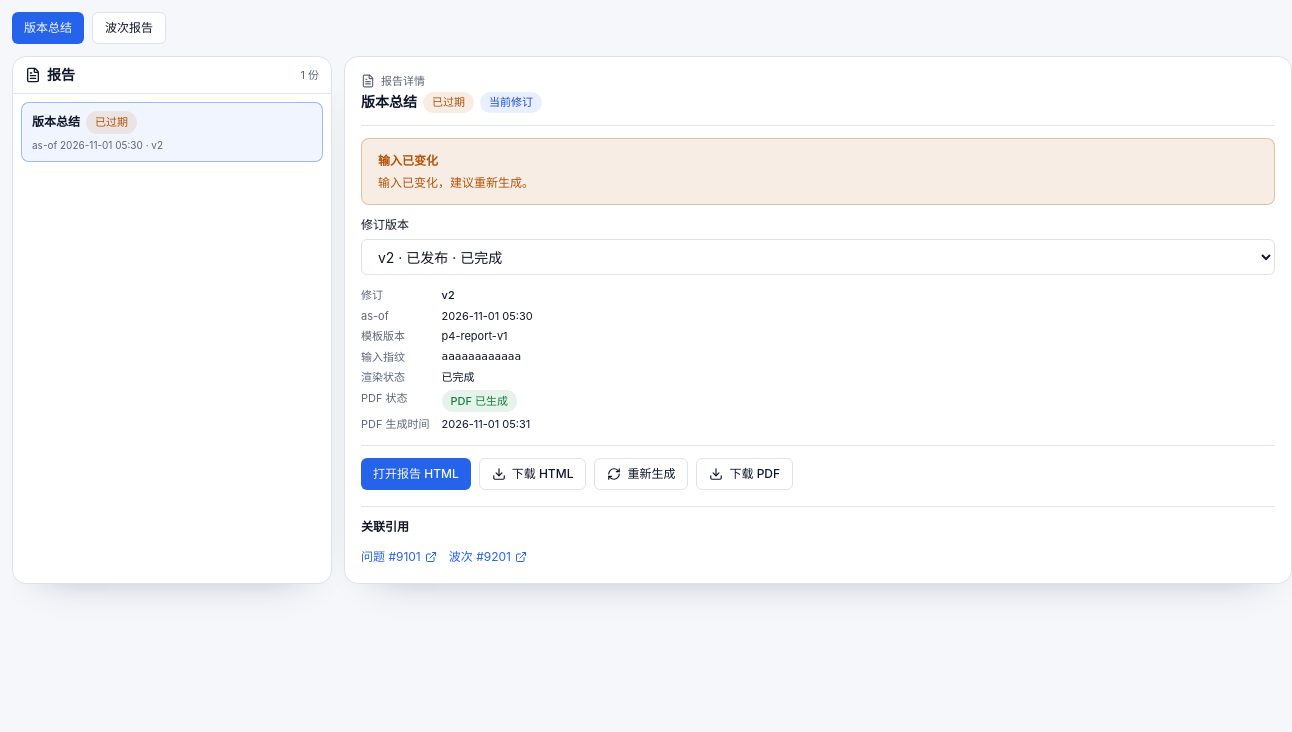
Test case: ReportsTab › switches revisions, refetches the revision metadata and updates as-of and the URL
Check: the button with test id "report-8101" is shown, box [21,102,323,162]
Step 1. Select "v1 · 已发布 · 已完成" in the dropdown labelled "修订版本" → (818, 257), box [361,239,1275,275]
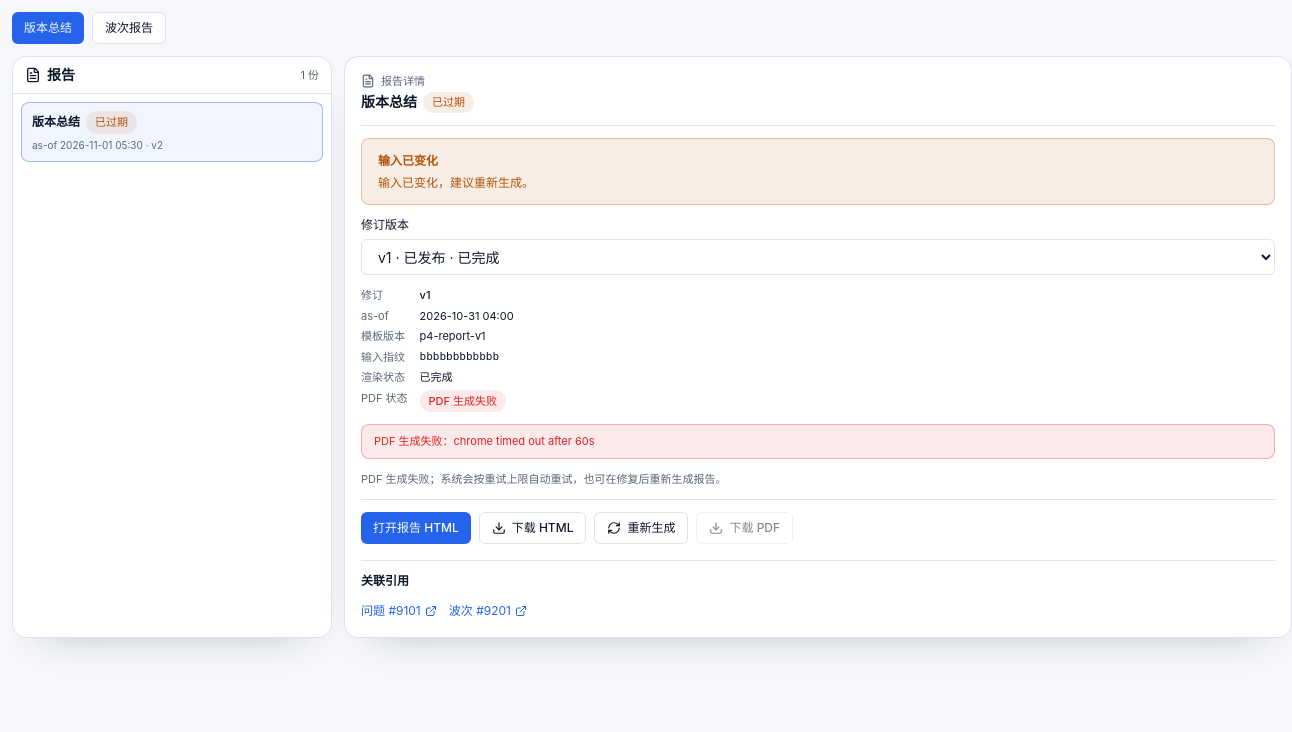
Check: the text "2026-10-31 04:00" is shown, box [420,309,514,323]
